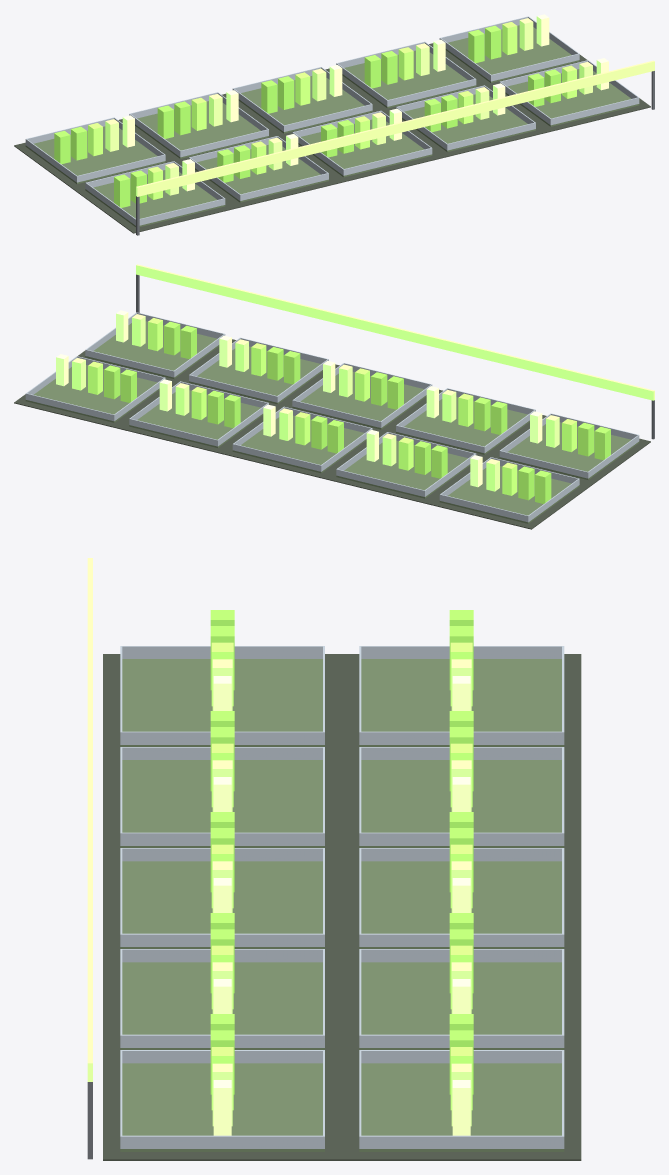
Rendered from pack-corporate-os.glb.
3 views of the same model, one above another, from view 1: azimuth 30°, elevation 25°; view 2: azimuth 150°, elevation 25°; view 3: azimuth 270°, elevation 25° (orthographic). The views are drawn at different scales.
Visible parts, largest first — view 1: Cognition.X : Corporate OS; view 2: Cognition.X : Corporate OS; view 3: Cognition.X : Corporate OS.
Part boxes in pixels (x1,y1,x2,y2): Cognition.X : Corporate OS: (14, 14, 654, 235); Cognition.X : Corporate OS: (14, 264, 654, 529); Cognition.X : Corporate OS: (87, 558, 581, 1160).
Size of the model in its own units: 70 by 6.3 by 28.9.
